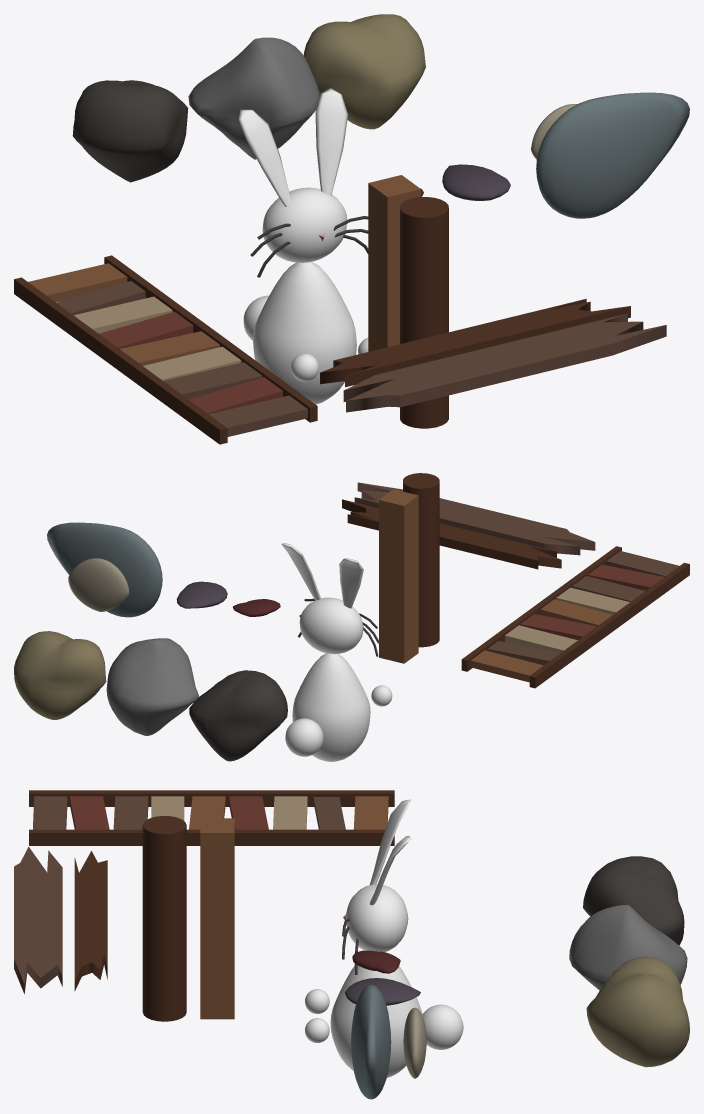
File: Models.fbx
3 views of the same model, one above another, from view 1: azimuth 30°, elevation 25°; view 2: azimuth 150°, elevation 25°; view 3: azimuth 270°, elevation 25° (orthographic). The views are drawn at different scales.
Visible parts, largest first — view 1: pSphere5, pCube17, pSphere11, Treasure_Hunt_Models:pSphere6, pSphere10, pSphere9, pCylinder1, pCube16, pCube18, pCube5, pSphere1, pCube1 (+12 smaller); view 2: pCube18, pSphere10, pSphere11, pSphere9, pSphere5, Treasure_Hunt_Models:pSphere6, pCube17, pCylinder1, pCube16, pSphere1, pCube5, pSphere7 (+15 smaller); view 3: pCylinder1, pSphere11, pCube18, pCube17, pSphere10, pSphere9, pCube6, pCube16, pSphere5, pCube5, Treasure_Hunt_Models:pSphere6, pSphere1 (+17 smaller).
Boxes of the visible parts, <box> form: pSphere5: <box>536,92,689,218</box>; pCube17: <box>343,313,666,412</box>; pSphere11: <box>303,14,425,129</box>; Treasure_Hunt_Models:pSphere6: <box>253,262,356,404</box>; pSphere10: <box>188,37,320,159</box>; pSphere9: <box>72,80,188,182</box>; pCylinder1: <box>400,197,448,428</box>; pCube16: <box>320,299,630,387</box>; pCube18: <box>368,175,420,406</box>; pCube5: <box>14,277,227,444</box>; pSphere1: <box>262,187,347,262</box>; pCube1: <box>315,88,348,195</box>; pCube18: <box>379,489,418,663</box>; pSphere10: <box>106,638,199,735</box>; pSphere11: <box>14,631,106,719</box>; pSphere9: <box>189,670,287,761</box>; pSphere5: <box>47,522,162,617</box>; Treasure_Hunt_Models:pSphere6: <box>292,653,370,761</box>; pCube17: <box>354,482,595,555</box>; pCylinder1: <box>403,473,439,647</box>; pCube16: <box>342,499,561,569</box>; pSphere1: <box>299,597,363,654</box>; pCube5: <box>529,562,689,688</box>; pSphere7: <box>68,558,129,611</box>; pCylinder1: <box>142,816,186,1021</box>; pSphere11: <box>586,956,689,1067</box>; pCube18: <box>200,818,234,1019</box>; pCube17: <box>14,846,62,994</box>; pSphere10: <box>569,904,687,990</box>; pSphere9: <box>583,856,684,945</box>; pCube6: <box>29,829,394,845</box>; pCube16: <box>74,851,107,991</box>; pSphere5: <box>351,985,391,1099</box>; pCube5: <box>29,790,394,806</box>; Treasure_Hunt_Models:pSphere6: <box>330,965,422,1077</box>; pSphere1: <box>346,884,408,951</box>.
Size of the model in its own units: 19.79 by 8.27 by 19.68.
